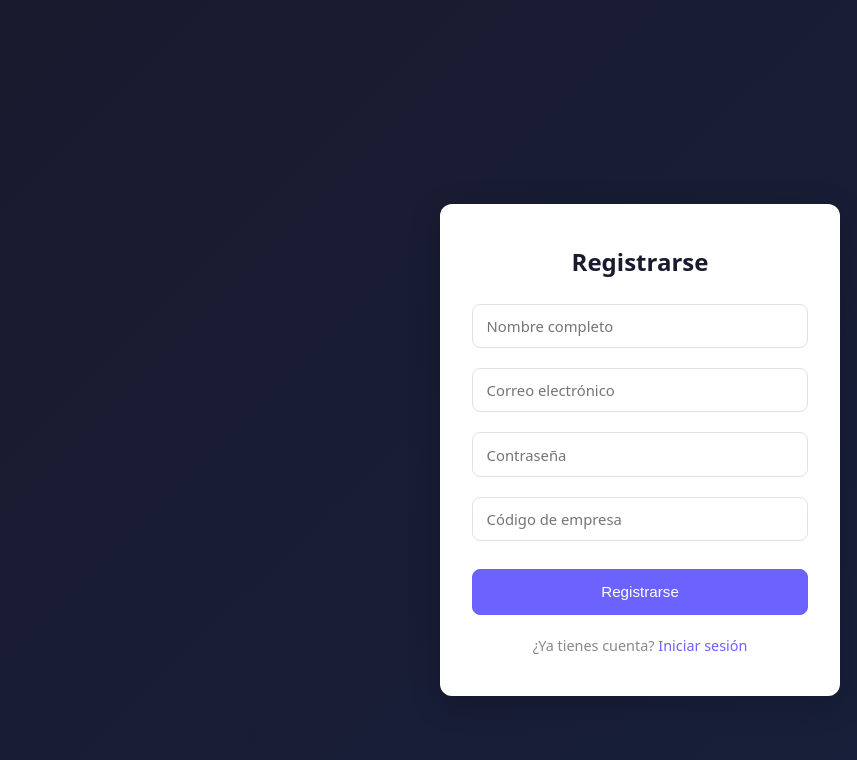
Test: Register › shows error for short password (mock API)
Type "Juan" into the field with placeholder "Nombre completo" at [640, 326], box 472,304 -> 808,348
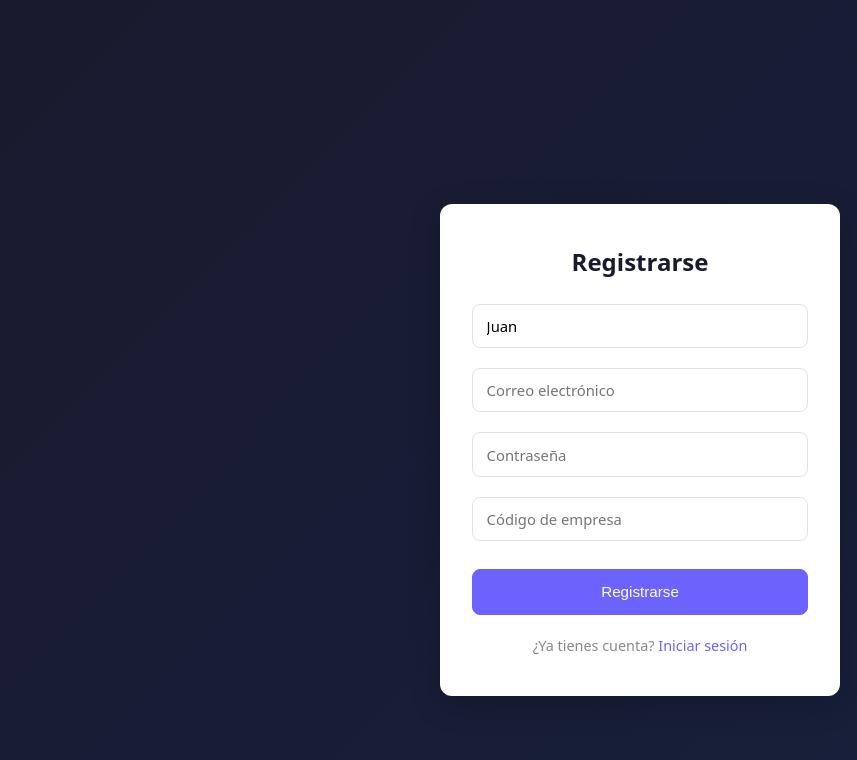
Type "a@a.com" into the field with placeholder "Correo electrónico" at [640, 390], box 472,368 -> 808,412
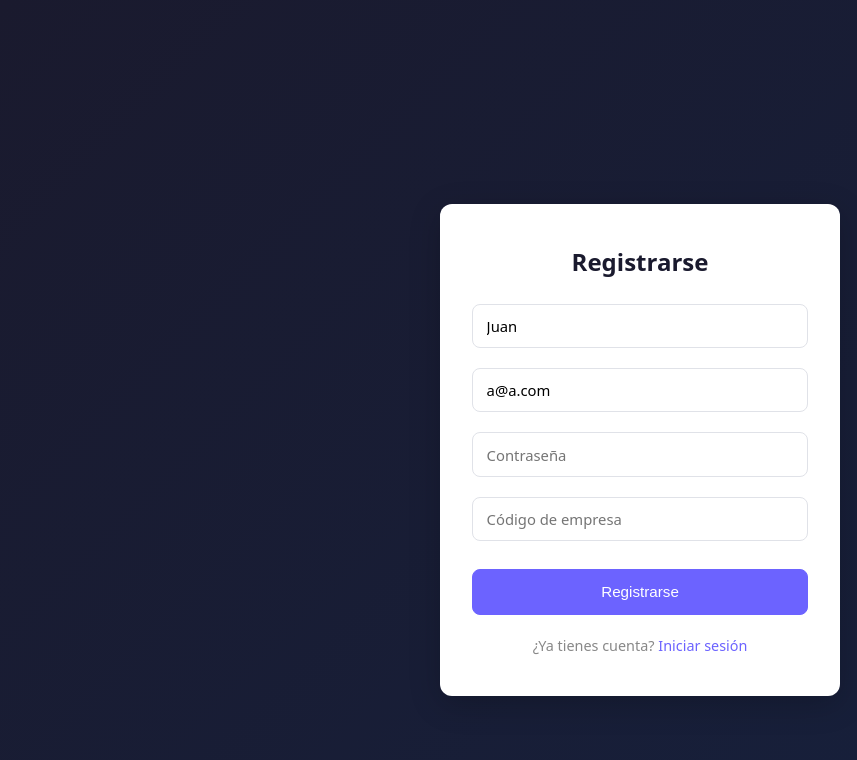
Type "123" into the password field with placeholder "Contraseña" at [640, 455], box 472,432 -> 808,477
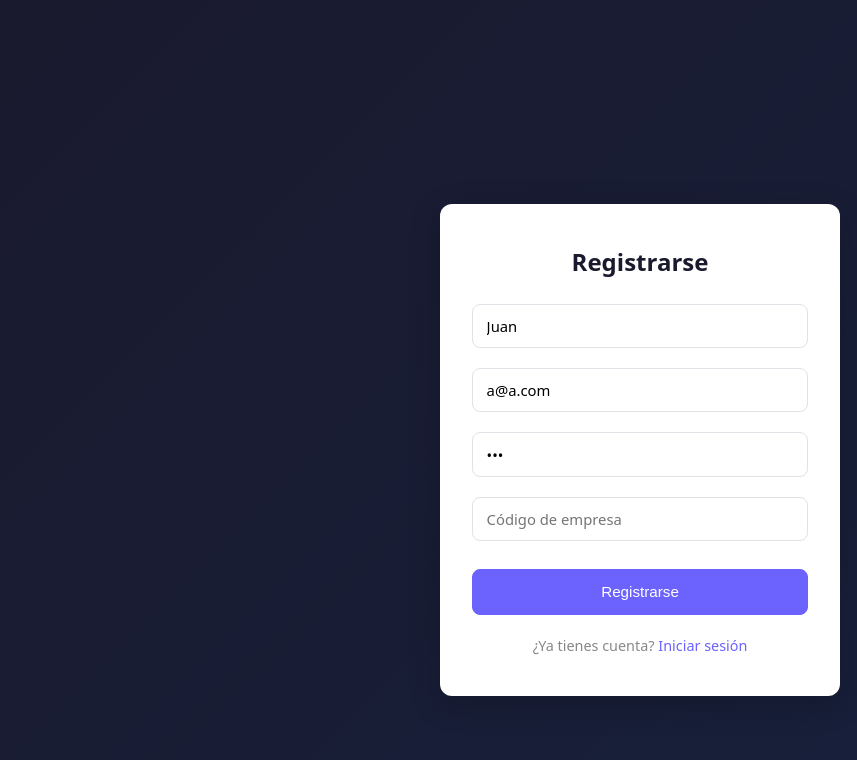
Type "1" into the number field with placeholder "Código de empresa" at [640, 519], box 472,497 -> 808,541
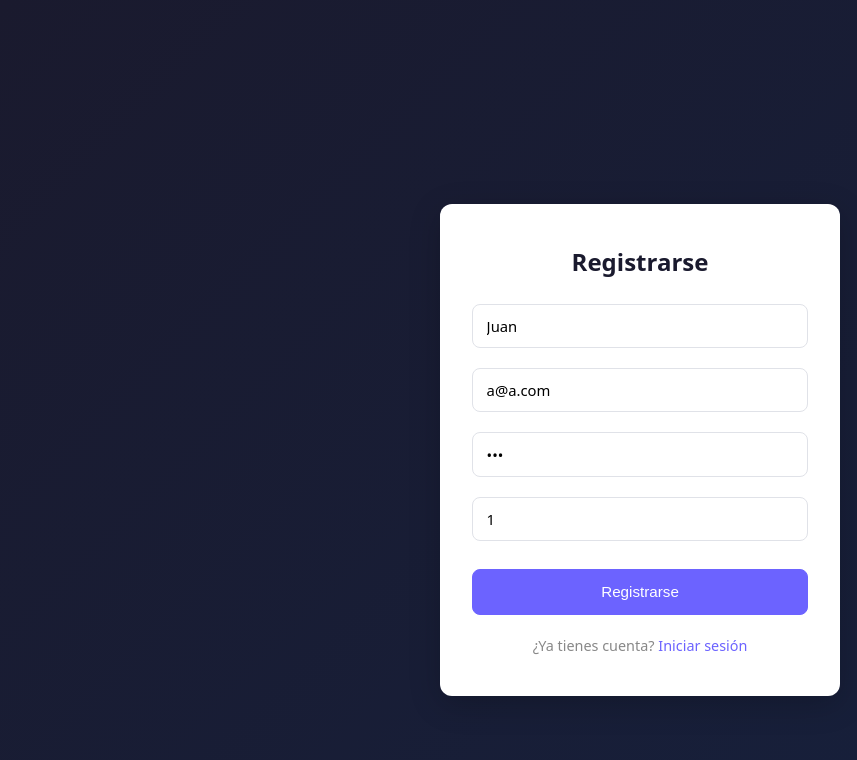
Click the button "Registrarse" at [640, 592], box 472,569 -> 808,615
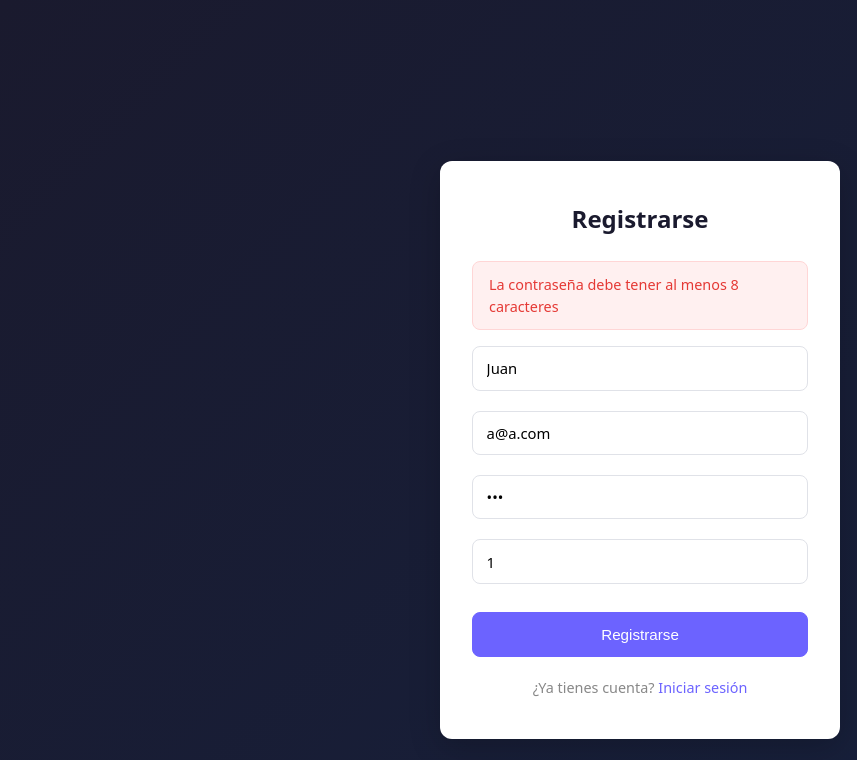
Now the text "La contraseña debe tener al menos 8 caracteres" is shown, box 472,261 -> 808,330
